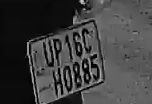0: (62, 64, 75, 93)
1: (61, 33, 75, 61)
5: (89, 53, 100, 83)
6: (71, 29, 84, 59)
8: (72, 60, 83, 89), (80, 56, 91, 84)
C: (79, 26, 94, 55)
H: (52, 68, 64, 96)
P: (53, 38, 66, 67)
U: (39, 40, 55, 69)
